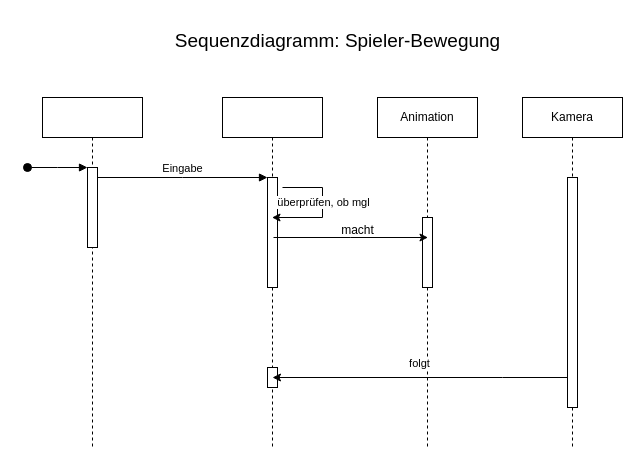
The diagram is 640 pixels wide and 465 high, and some of its shapes have lost their labels. The shapes that lost their labels are listed below. From the top down, each one's centre as x and y in pixels, then its label:
the point at 92,272: Input
the point at 272,272: Player
